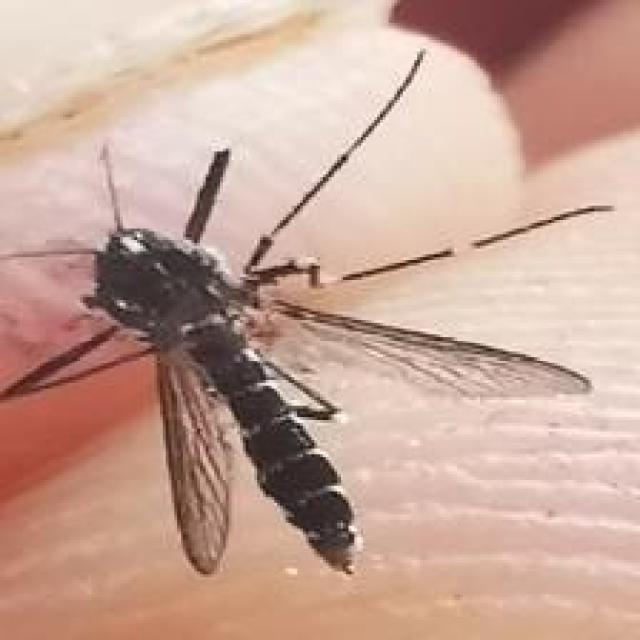Aedes albopictus: (0, 45, 614, 577)
